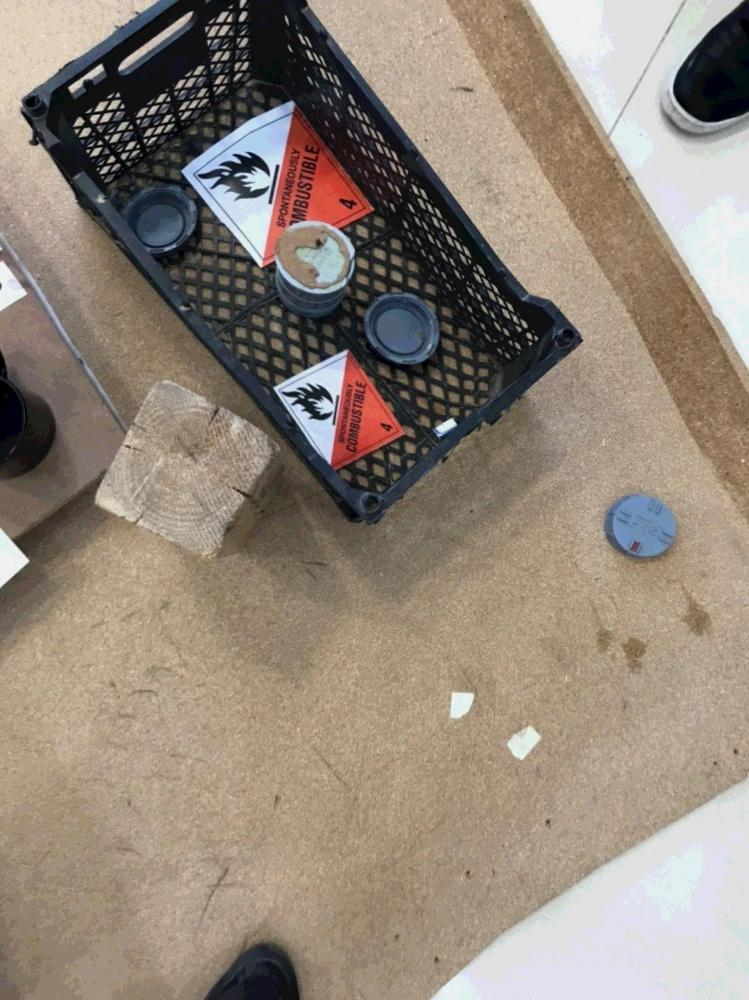spontaneously-combustible: (180, 100, 373, 284), (273, 339, 405, 477)
